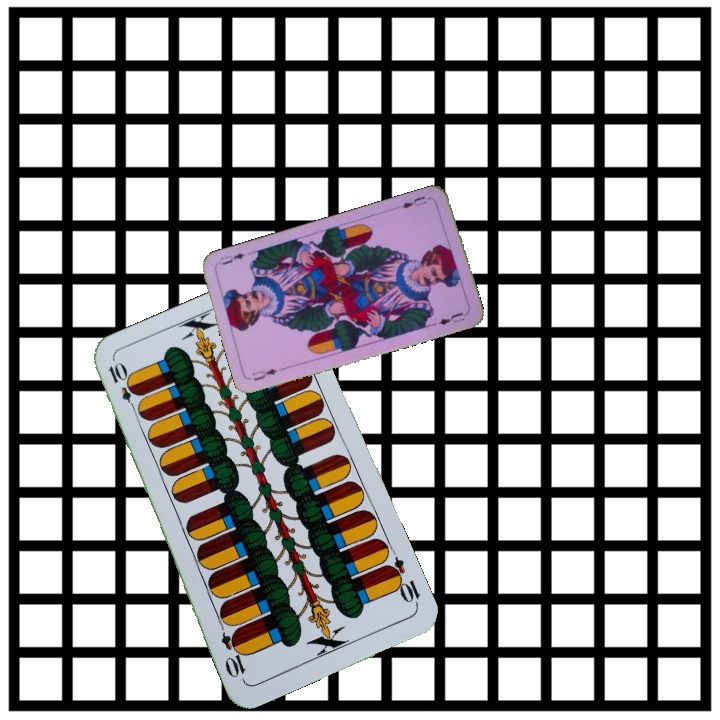E10: (382, 553, 423, 609), (104, 358, 141, 415)
EU: (393, 192, 430, 211), (248, 364, 280, 383)
